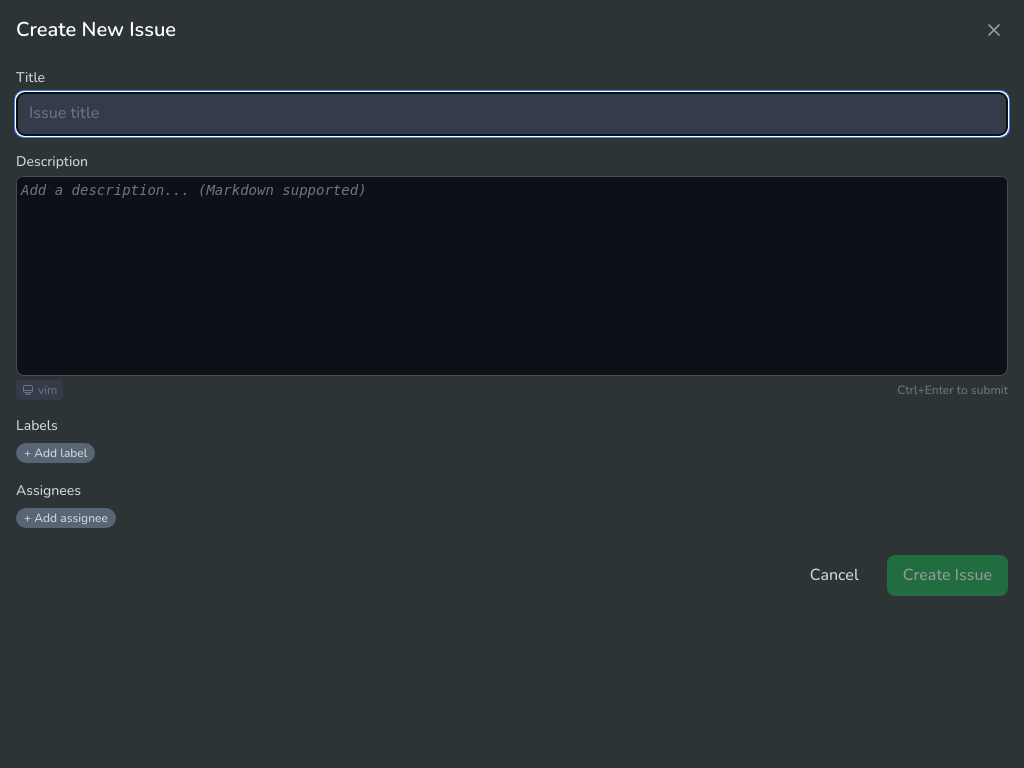
Test case: IssueCreateView › Form Submission › shows error message on API failure
The width and height of the screenshot is (1024, 768).
Type "Test Issue" into the field with placeholder "Issue title" at (512, 114), box [16, 92, 1008, 136]
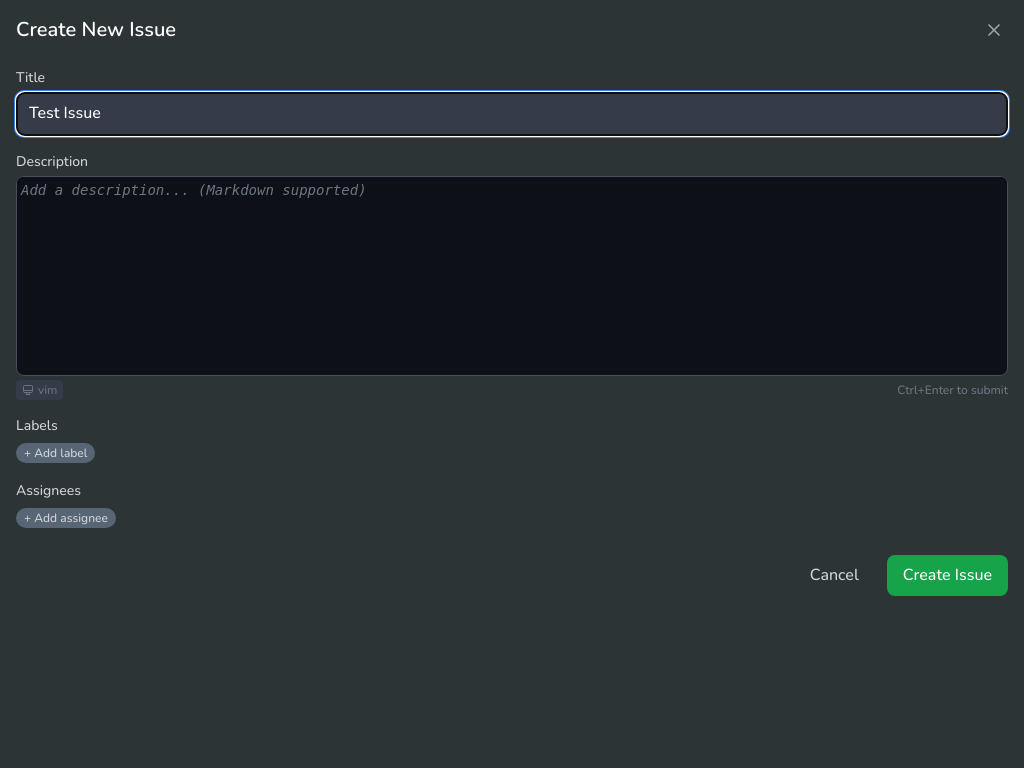
Click the button "Create Issue" at (947, 576), box [887, 555, 1008, 596]
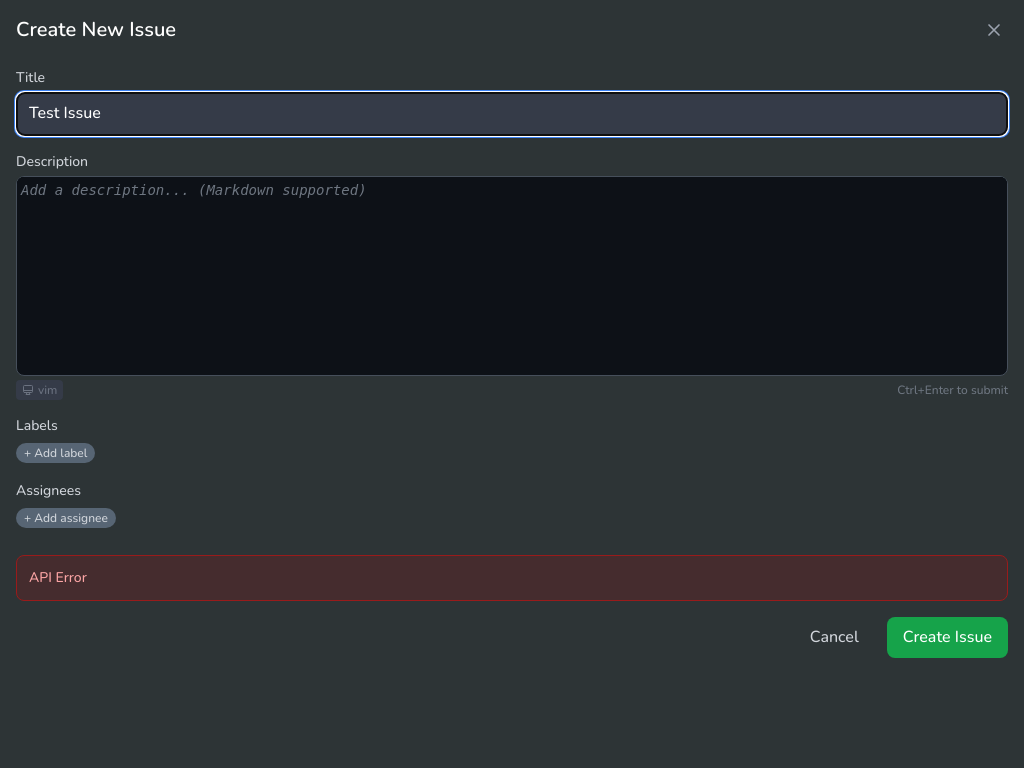
Check: the text "API Error" is shown, box [16, 555, 1008, 601]
